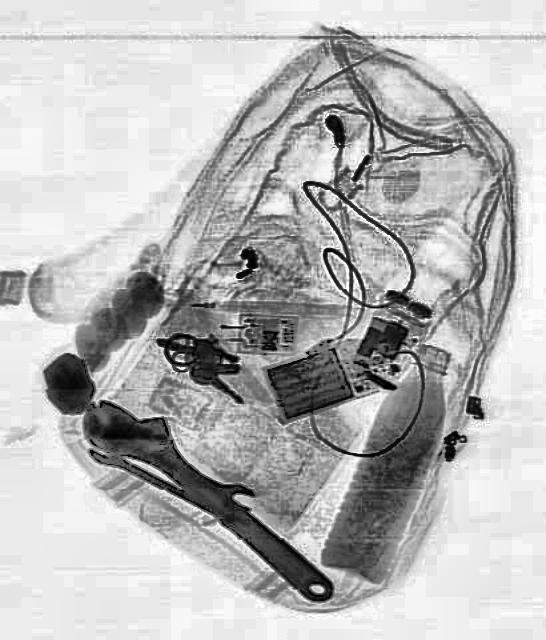Wrench: (71, 374, 351, 618)
